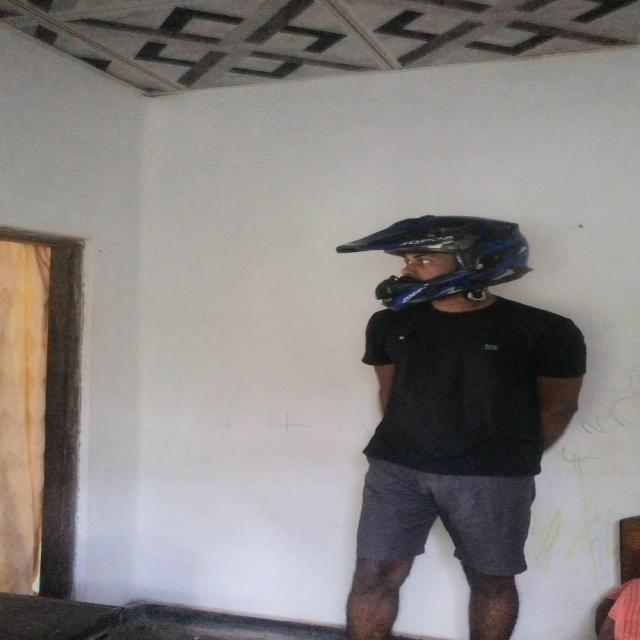Helmet_Wearer: (334, 209, 537, 313)
Person: (324, 218, 603, 640)
